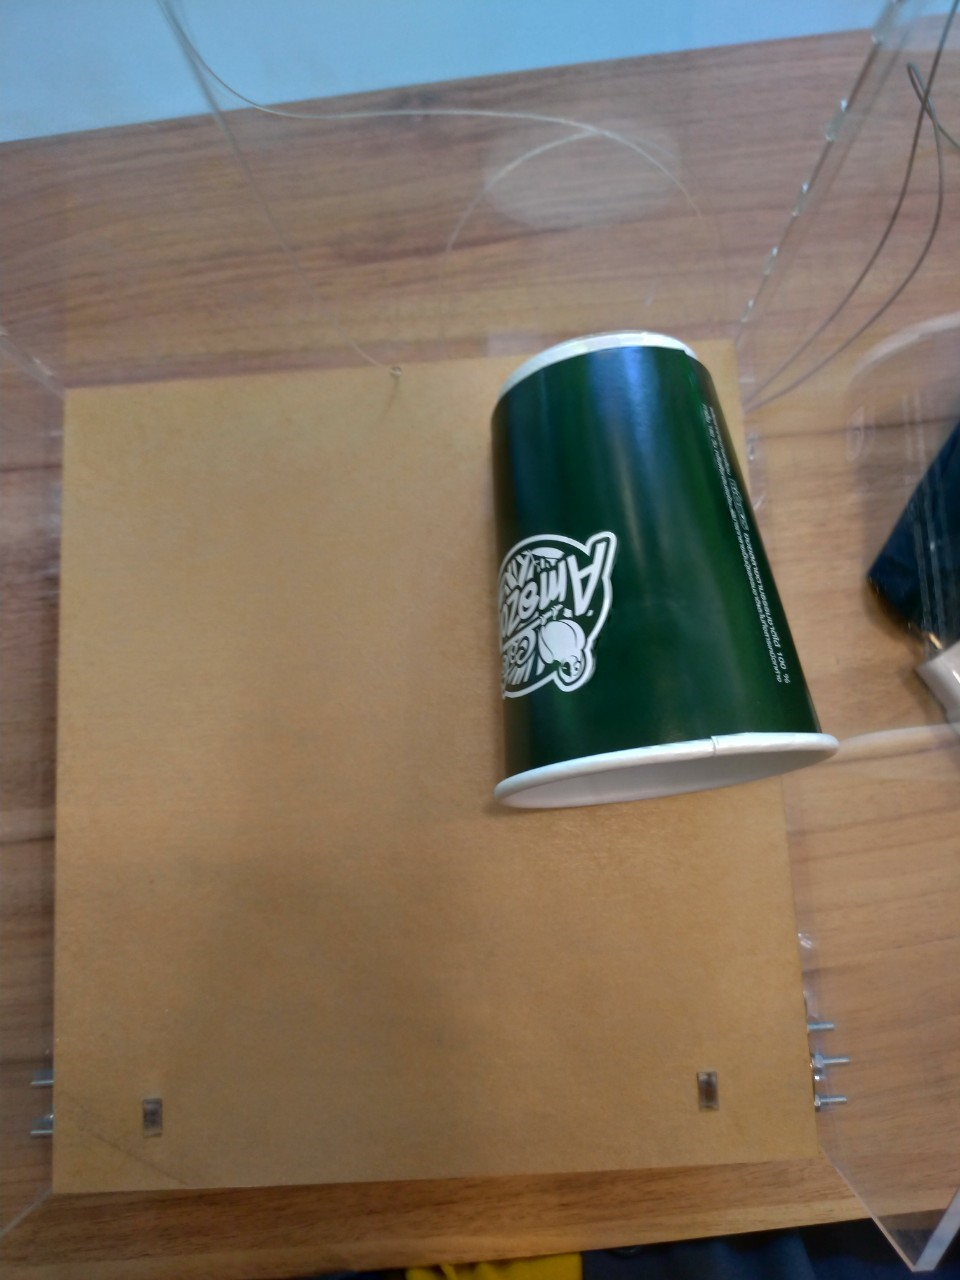PaperCup: (494, 327, 845, 808)
